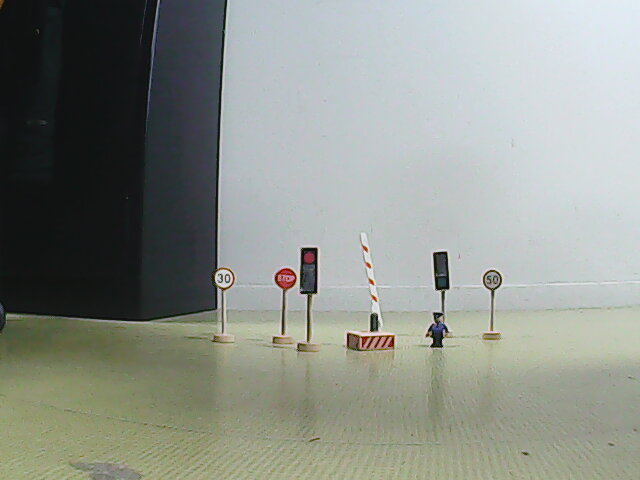barrier_up: (344, 230, 397, 354)
green_traffic_sign: (432, 250, 451, 291)
person: (424, 308, 450, 352)
red_traffic_sign: (301, 248, 317, 295)
sign_30: (213, 268, 236, 291)
sign_50: (482, 268, 503, 291)
stop_sign: (274, 266, 297, 291)
